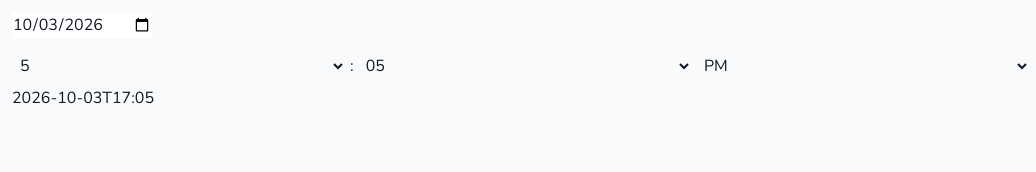
Test: preserves the date while changing the Manila clock time
The width and height of the screenshot is (1036, 172).
Select "AM" in the dropdown named "Event time (Manila) AM/PM" at (863, 66), box [696, 46, 1030, 86]
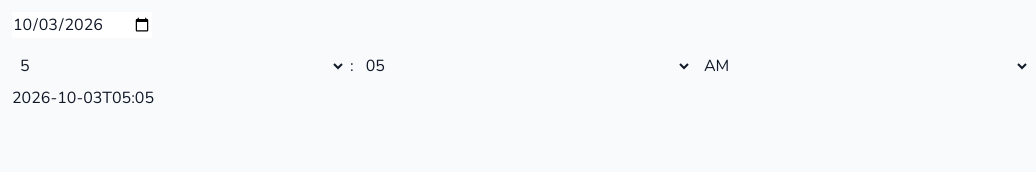
Result: the text "2026-10-03T05:05" is shown at [12, 87, 154, 109]
